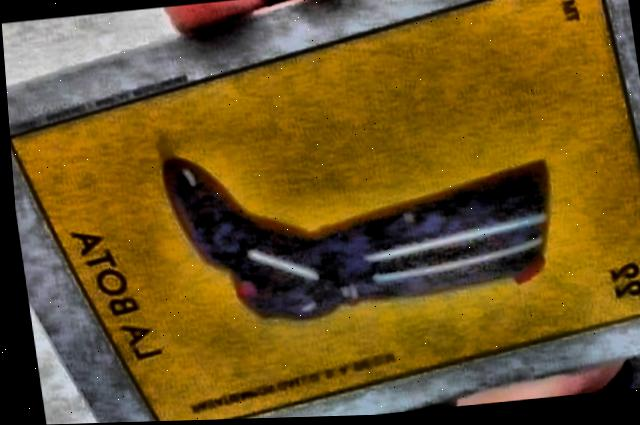La Bota: (8, 0, 640, 422)
